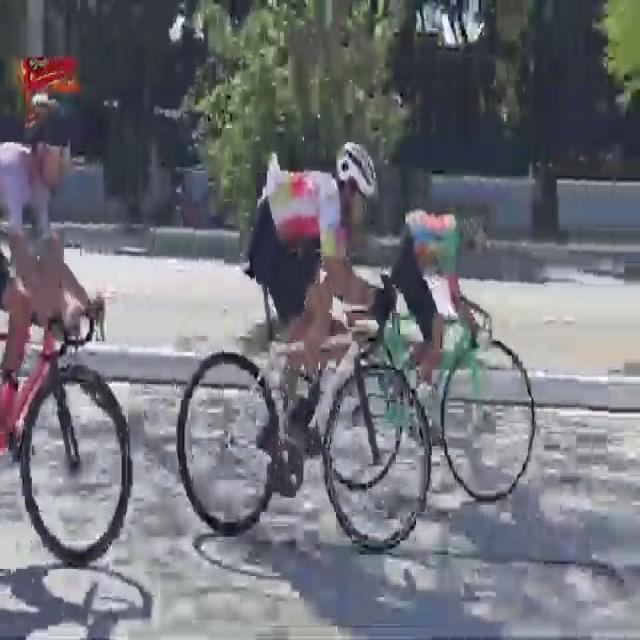bike: (175, 137, 432, 563), (322, 203, 538, 507), (0, 123, 134, 575)
